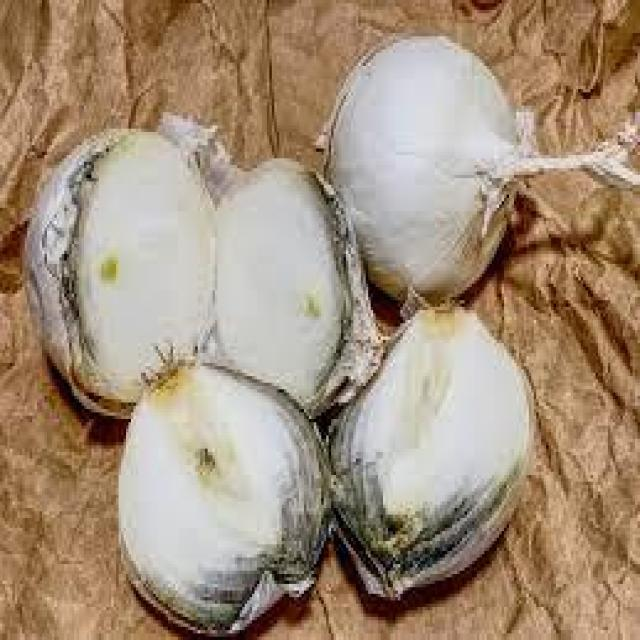Onion: (316, 35, 640, 305), (117, 336, 335, 640), (336, 300, 539, 607), (22, 130, 222, 424), (193, 158, 390, 416)
